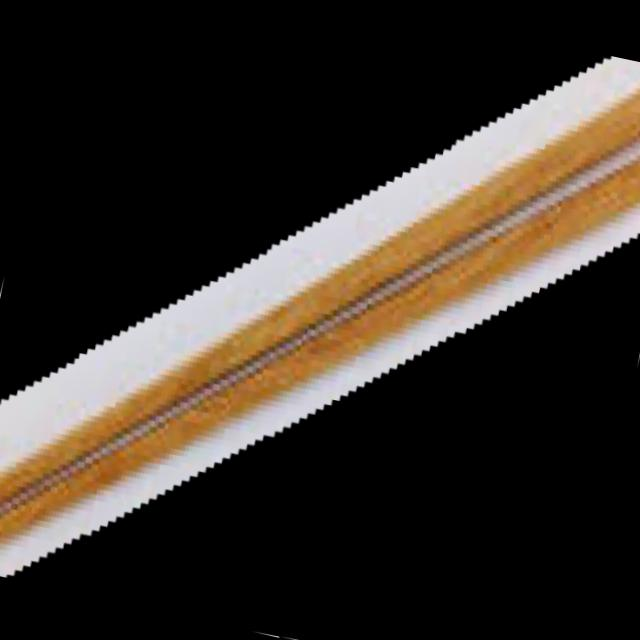others: (0, 54, 640, 576)
